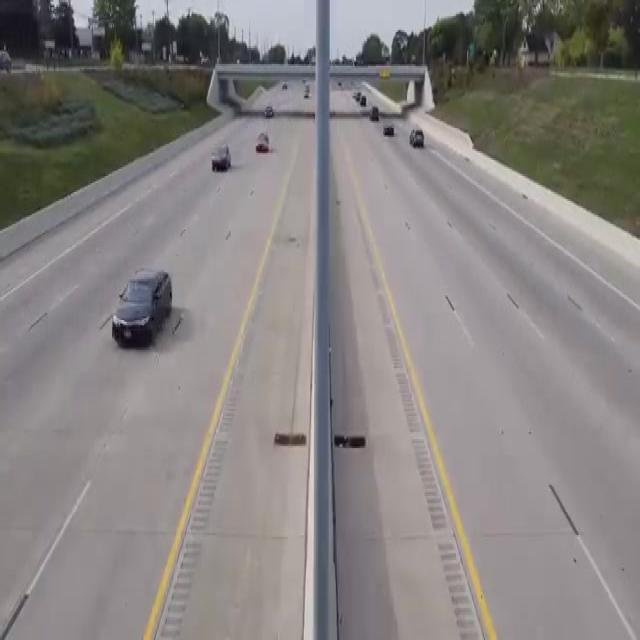car: (107, 258, 192, 357), (208, 136, 243, 197), (406, 125, 439, 165), (252, 126, 276, 162), (382, 117, 400, 147), (258, 100, 284, 120)
van: (369, 103, 384, 124)
